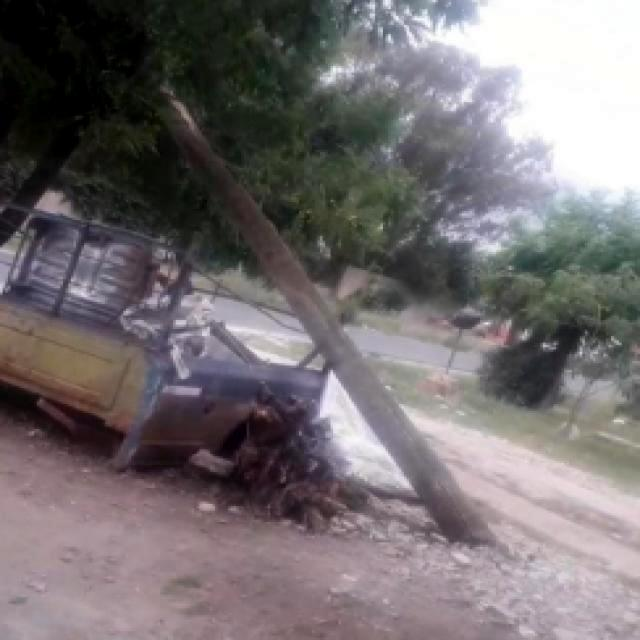Broken Pole: (151, 87, 500, 548)
